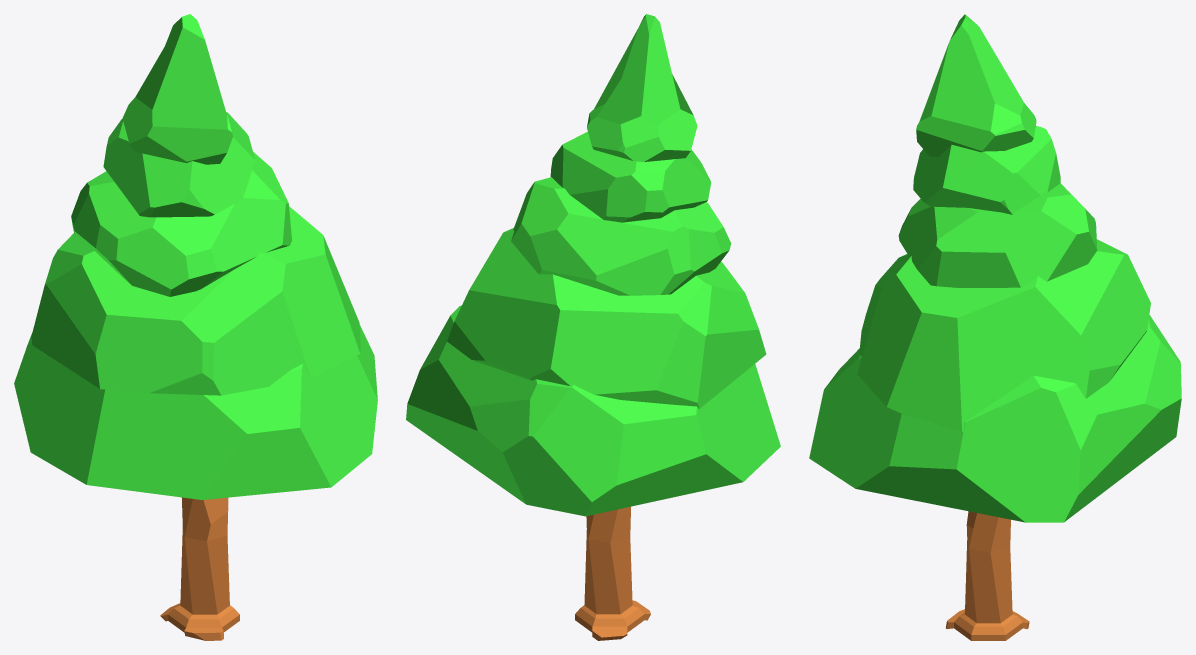
Rendered from Tree 2.fbx.
3 renders of one model, left to right at view 1: azimuth 30°, elevation 25°; view 2: azimuth 150°, elevation 25°; view 3: azimuth 270°, elevation 25°, orthographic. The views are drawn at different scales.
Visible parts, largest first — view 1: Tree 2; view 2: Tree 2; view 3: Tree 2.
Boxes of the visible parts, x1,y1,x2,y2 form: Tree 2: (14,14,377,640); Tree 2: (406,14,780,640); Tree 2: (809,14,1181,640).
Bounding box in the file's own units: 587 × 1077 × 603.
